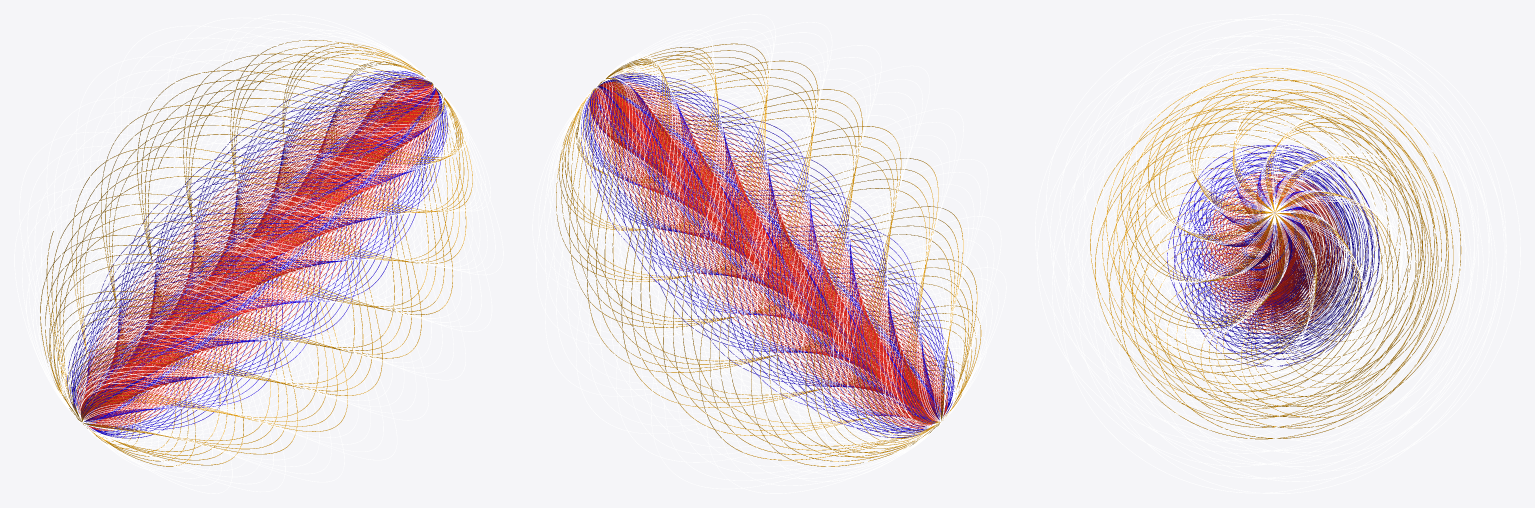
3 views of the same model, side by side, from view 1: azimuth 30°, elevation 25°; view 2: azimuth 150°, elevation 25°; view 3: azimuth 270°, elevation 25° (orthographic). The views are drawn at different scales.
Parts seen in each view (by area): view 1: geo1__0, geo1__0.001, geo1__0.002, geo1__0.010, geo1__0.009, geo1__0.008, geo1__0.003, geo1__0.007, geo1__0.004, geo1__0.006, geo1__0.005, geo1__0.011; view 2: geo1__0, geo1__0.001, geo1__0.002, geo1__0.010, geo1__0.009, geo1__0.008, geo1__0.003, geo1__0.007, geo1__0.004, geo1__0.006, geo1__0.005, geo1__0.011; view 3: geo1__0, geo1__0.001, geo1__0.002, geo1__0.010, geo1__0.009, geo1__0.003, geo1__0.008, geo1__0.007, geo1__0.011, geo1__0.004.
Part boxes in pixels (x1,y1,x2,y2): geo1__0: (14,14,503,493); geo1__0.001: (40,40,472,466); geo1__0.002: (57,56,456,448); geo1__0.010: (71,72,444,436); geo1__0.009: (76,76,439,430); geo1__0.008: (79,80,436,426); geo1__0.003: (67,70,447,438); geo1__0.007: (80,82,434,424); geo1__0.004: (86,85,433,419); geo1__0.006: (89,88,431,420); geo1__0.005: (90,89,432,418); geo1__0.011: (69,78,445,429); geo1__0: (532,14,1006,493); geo1__0.001: (556,43,981,466); geo1__0.002: (570,62,964,448); geo1__0.010: (584,76,952,433); geo1__0.009: (589,81,947,428); geo1__0.008: (591,84,944,425); geo1__0.003: (581,72,954,437); geo1__0.007: (594,86,942,423); geo1__0.004: (596,88,938,420); geo1__0.006: (600,89,937,416); geo1__0.005: (599,88,935,414); geo1__0.011: (592,74,945,435); geo1__0: (1035,14,1520,493); geo1__0.001: (1090,68,1461,439); geo1__0.002: (1133,111,1415,397); geo1__0.010: (1179,150,1371,354); geo1__0.009: (1202,170,1348,334); geo1__0.003: (1167,145,1379,366); geo1__0.008: (1219,186,1330,321); geo1__0.007: (1232,195,1316,311); geo1__0.011: (1174,152,1372,359); geo1__0.004: (1247,211,1301,303).
Size of the model in its own units: 9.5 by 9.59 by 9.47.
